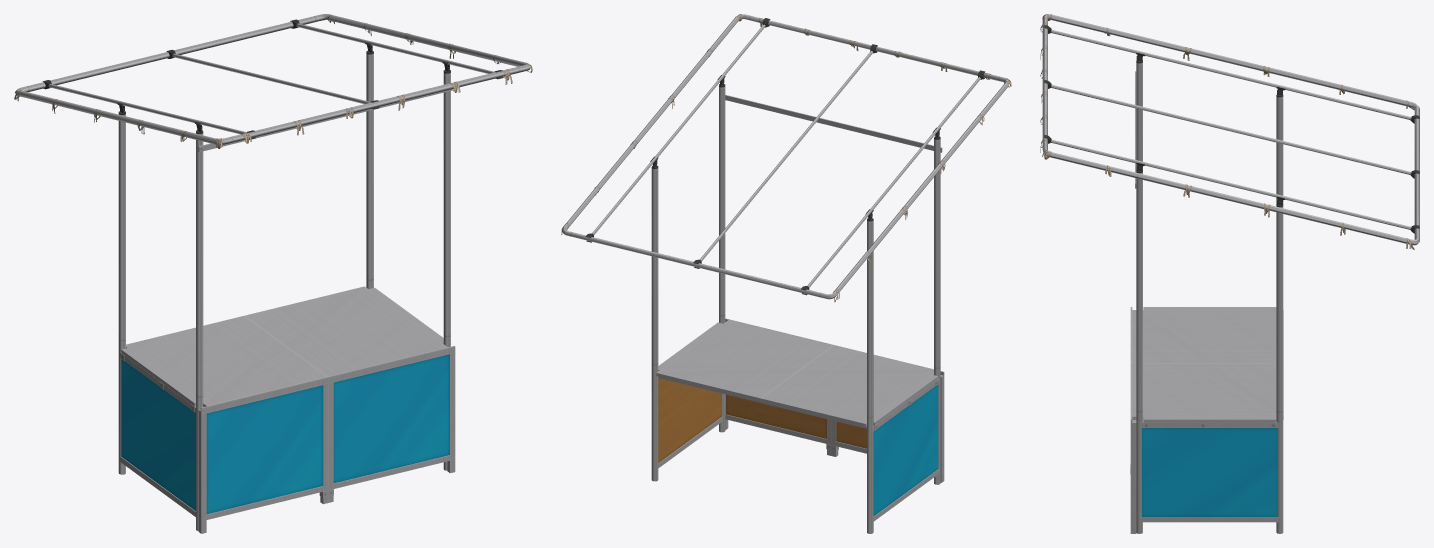
Rendered from jsf_4P_s01_c02_t01.fbx.
The picture shows the model from 3 angles, left to right: view 1: azimuth 30°, elevation 25°; view 2: azimuth 150°, elevation 25°; view 3: azimuth 270°, elevation 25°; orthographic projection. The views are drawn at different scales.
Visible parts, largest first — view 1: Base_s01_c02, Table_4P_s01_t01, Pillar4_s01, Rope_4P_s01; view 2: Pillar4_s01, Table_4P_s01_t01, Base_s01_c02, Rope_4P_s01; view 3: Pillar4_s01, Table_4P_s01_t01, Base_s01_c02, Rope_4P_s01.
Boxes of the visible parts, <box> form: Base_s01_c02: <box>120,346,455,533</box>; Table_4P_s01_t01: <box>121,286,447,412</box>; Pillar4_s01: <box>15,14,530,530</box>; Rope_4P_s01: <box>14,14,532,148</box>; Pillar4_s01: <box>561,14,1010,533</box>; Table_4P_s01_t01: <box>656,320,938,430</box>; Base_s01_c02: <box>658,318,944,521</box>; Rope_4P_s01: <box>561,14,1011,302</box>; Pillar4_s01: <box>1042,14,1419,533</box>; Table_4P_s01_t01: <box>1132,307,1283,427</box>; Base_s01_c02: <box>1130,307,1278,533</box>; Rope_4P_s01: <box>1040,14,1414,249</box>.
Size of the model in its own units: 186 by 243 by 211.
